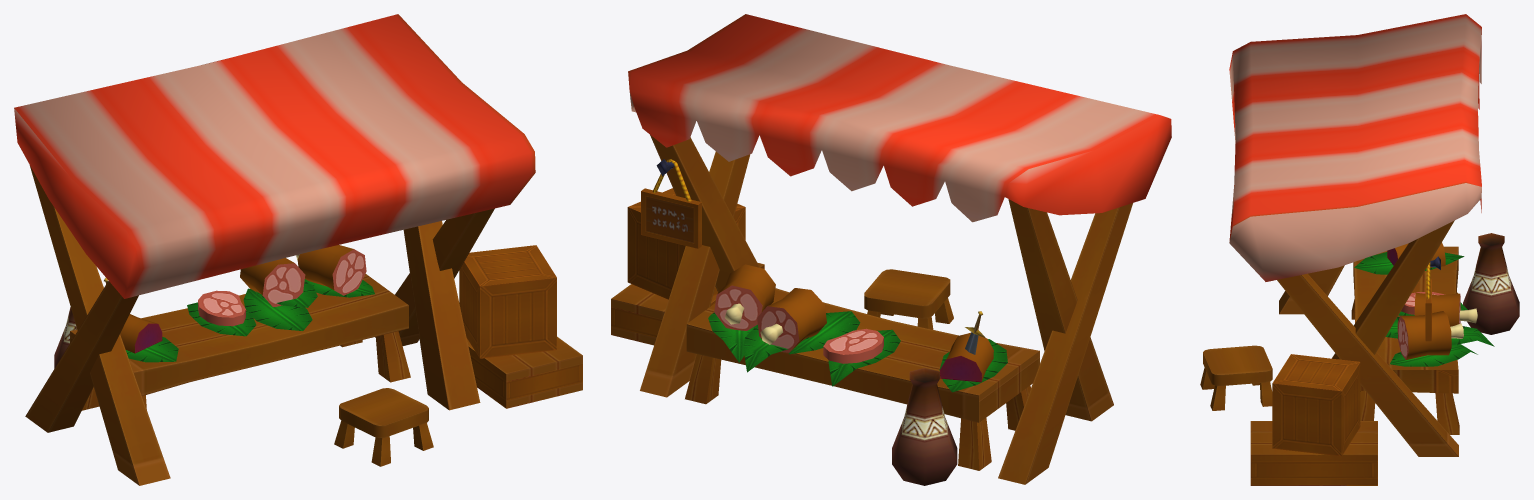
The model's file is HOS1010005.fbx.
3 views of the same model, side by side, from view 1: azimuth 30°, elevation 25°; view 2: azimuth 150°, elevation 25°; view 3: azimuth 270°, elevation 25° (orthographic). The views are drawn at different scales.
Parts seen in each view (by area): view 1: smHOS1010005; view 2: smHOS1010005; view 3: smHOS1010005.
Part boxes in pixels (x1,y1,x2,y2): smHOS1010005: (14, 14, 582, 485); smHOS1010005: (611, 14, 1171, 485); smHOS1010005: (1200, 14, 1519, 485).
Size of what is drawn, in the model's own units: 463 by 295 by 308.
Materials: 1 (1 with a texture image).
